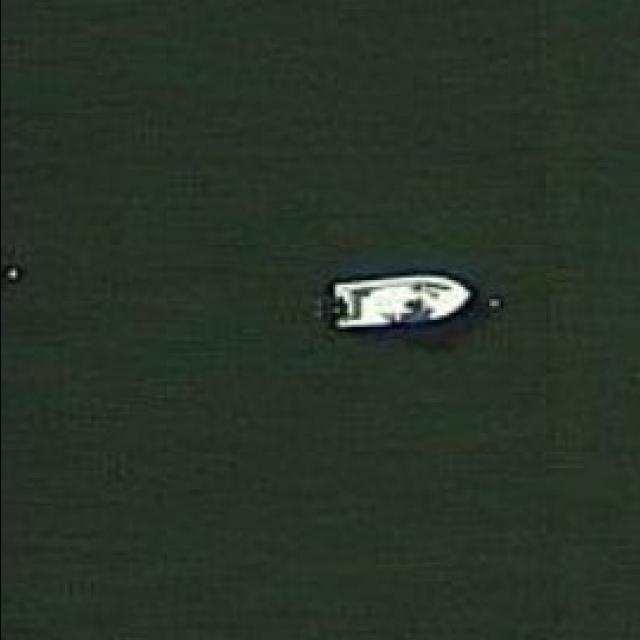ship: (322, 270, 477, 336)
